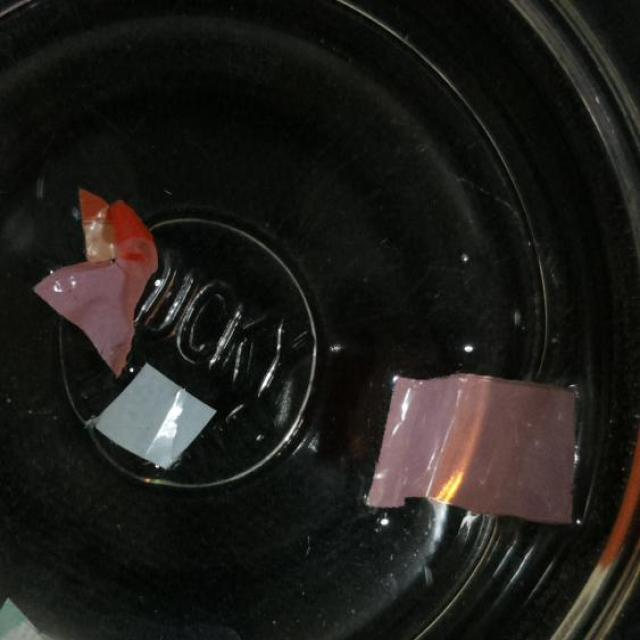fiber: (367, 367, 575, 527), (29, 184, 162, 375), (94, 362, 217, 473)
